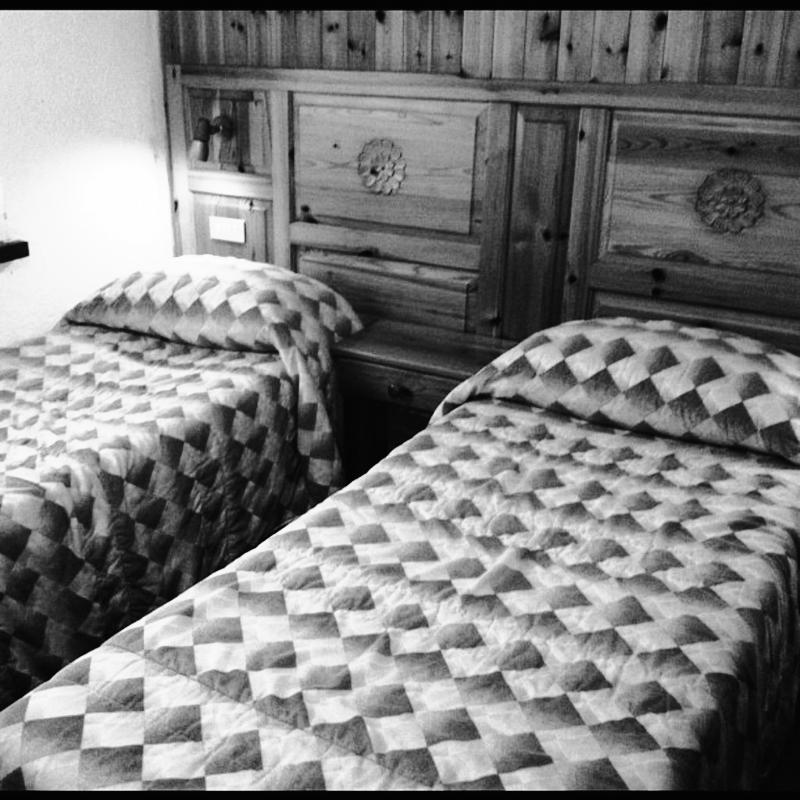pillow: (480, 307, 798, 475), (63, 248, 369, 356)
